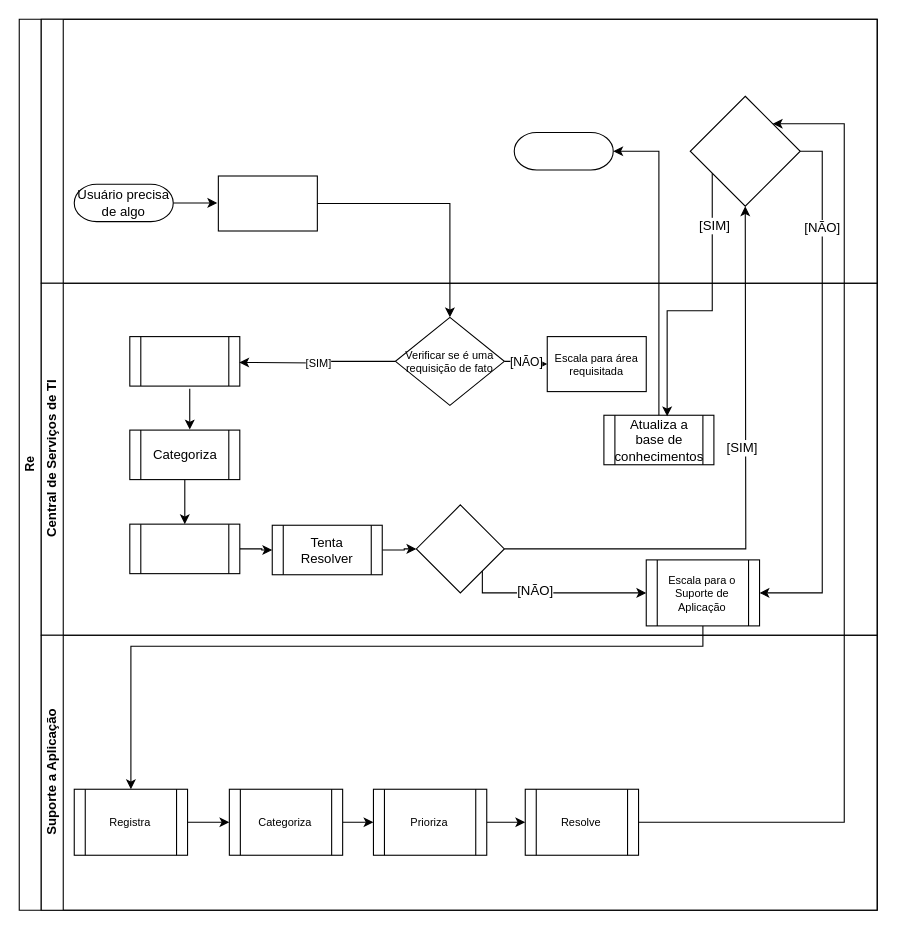
Some shapes in this 897 by 930 pixel diagram are drawn without their labels. Each missing label, with the box of its shape:
Conseguiu Resolver?: (415, 504, 504, 593)
Definir velocidade de atendimento: (129, 523, 240, 574)
Faz a requisição: (217, 175, 317, 231)
Foi atendido conforme esperado: (689, 95, 800, 206)
Registra a requisição: (129, 336, 240, 386)
Resolvido: (513, 131, 613, 170)
Usuario: (40, 18, 877, 283)
